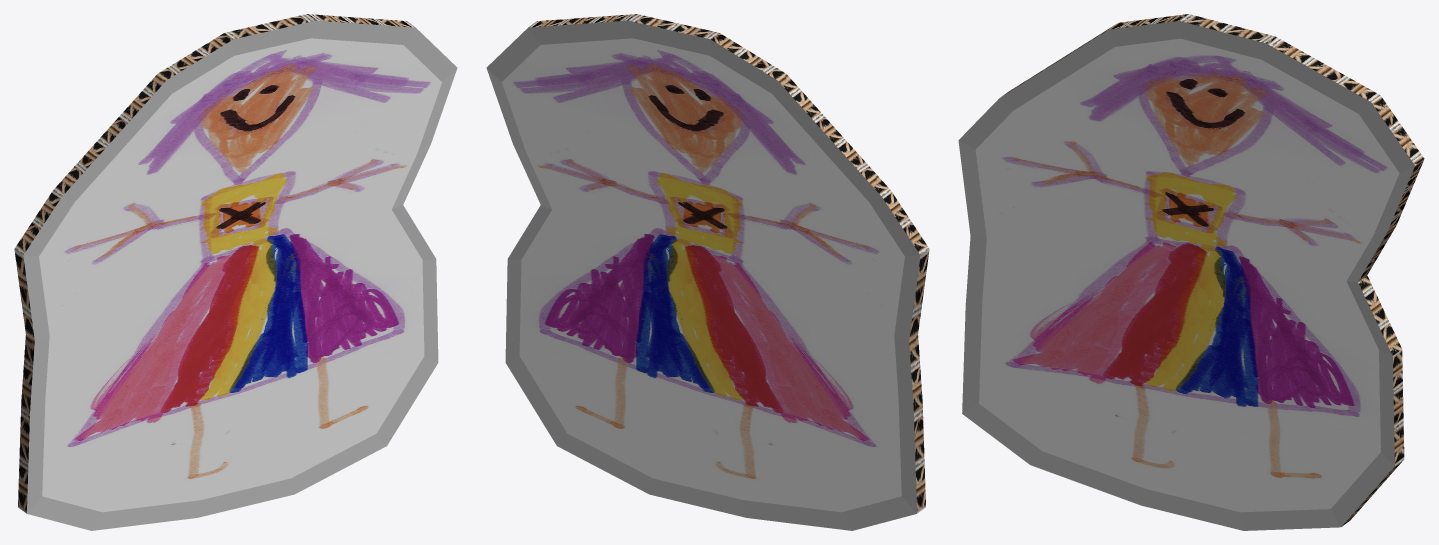
Rendered from Pirkko.fbx.
The picture shows the model from 3 angles, left to right: view 1: azimuth 30°, elevation 25°; view 2: azimuth 150°, elevation 25°; view 3: azimuth 330°, elevation 25°; orthographic projection. The views are drawn at different scales.
Parts seen in each view (by area): view 1: Pirkko; view 2: Pirkko; view 3: Pirkko.
Boxes of the visible parts, x1=… form: Pirkko: x1=14, y1=14, x2=457, y2=530; Pirkko: x1=486, y1=14, x2=929, y2=530; Pirkko: x1=958, y1=14, x2=1424, y2=530.
Size of the model in its own units: 196 by 203 by 6.99.
